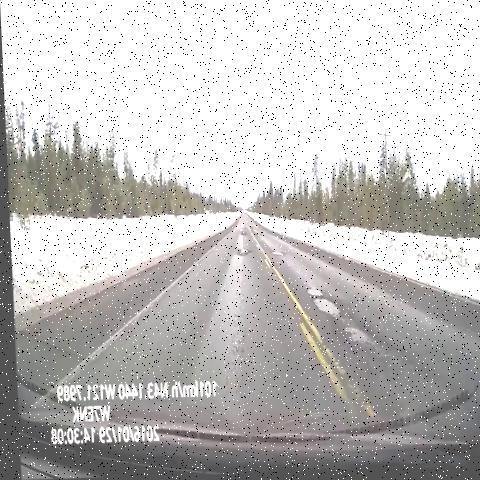pothole: (299, 274, 347, 331), (336, 317, 386, 363), (223, 241, 261, 272), (265, 241, 287, 267), (235, 220, 250, 249)
